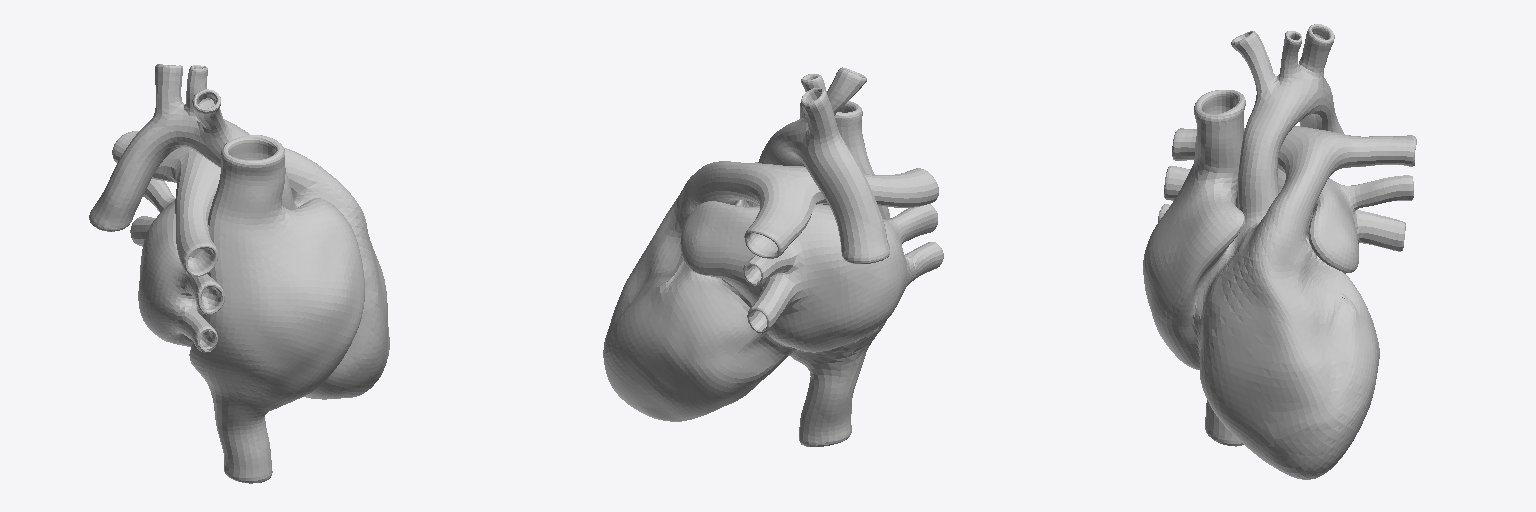
3 renders of one model, left to right at view 1: azimuth 30°, elevation 25°; view 2: azimuth 150°, elevation 25°; view 3: azimuth 270°, elevation 25°, orthographic.
Visible parts, largest first — view 1: HEART_PRO; view 2: HEART_PRO; view 3: HEART_PRO.
Part boxes in pixels (x1,y1,x2,y2): HEART_PRO: (89,64,389,483); HEART_PRO: (603,67,943,446); HEART_PRO: (1143,24,1416,479).
Size of the model in its own units: 621 by 830 by 521.